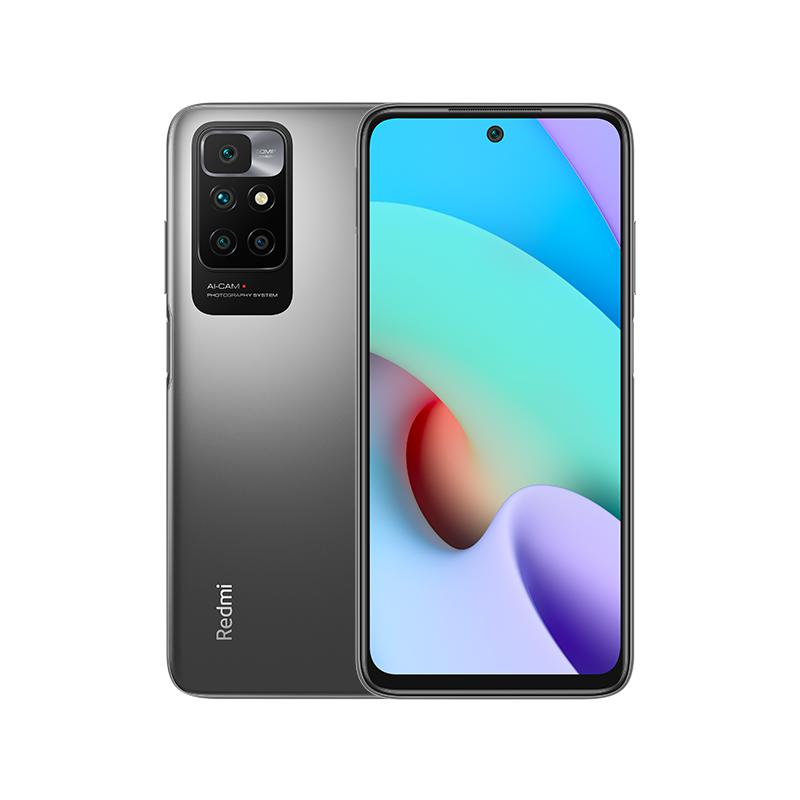Smartphone: (349, 119, 638, 695), (175, 111, 346, 693)
